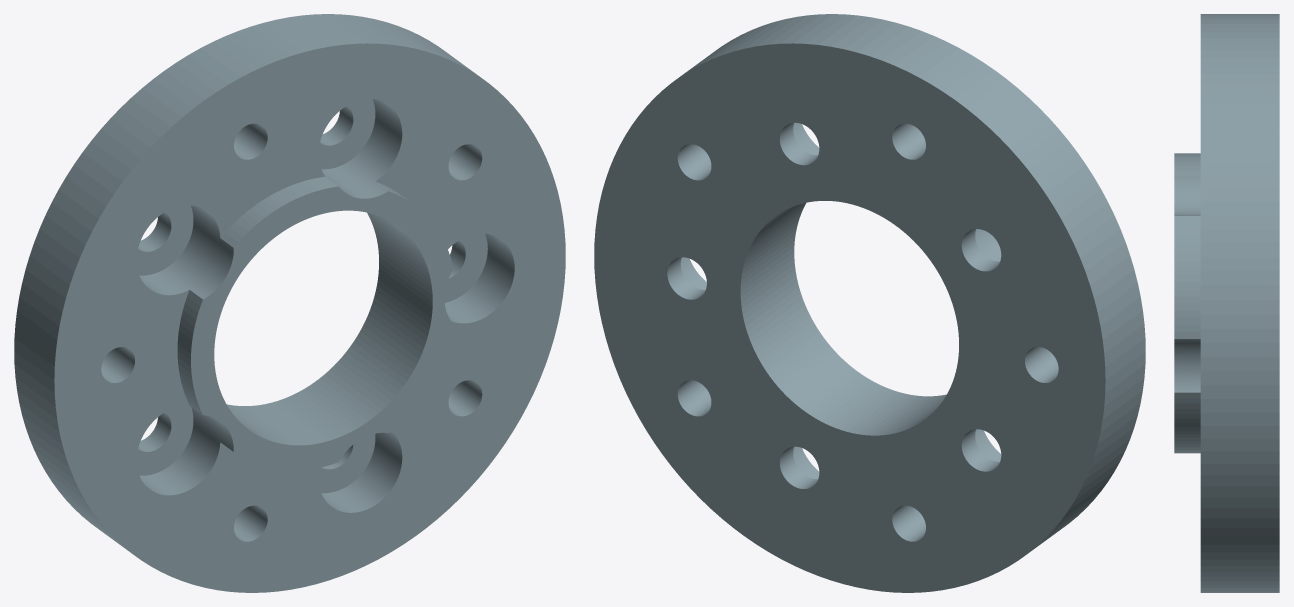
The model's file is wheel_adapter_C02_R02.glb.
3 views of the same model, side by side, from view 1: azimuth 30°, elevation 25°; view 2: azimuth 150°, elevation 25°; view 3: azimuth 270°, elevation 25° (orthographic).
Parts seen in each view (by area): view 1: wheel_adapter_C02_R02; view 2: wheel_adapter_C02_R02; view 3: wheel_adapter_C02_R02.
Part boxes in pixels (x1,y1,x2,y2): wheel_adapter_C02_R02: (14, 14, 565, 592); wheel_adapter_C02_R02: (594, 14, 1145, 592); wheel_adapter_C02_R02: (1174, 14, 1279, 592).
Bounding box in the file's own units: 0.22 × 0.2199 × 0.04.
